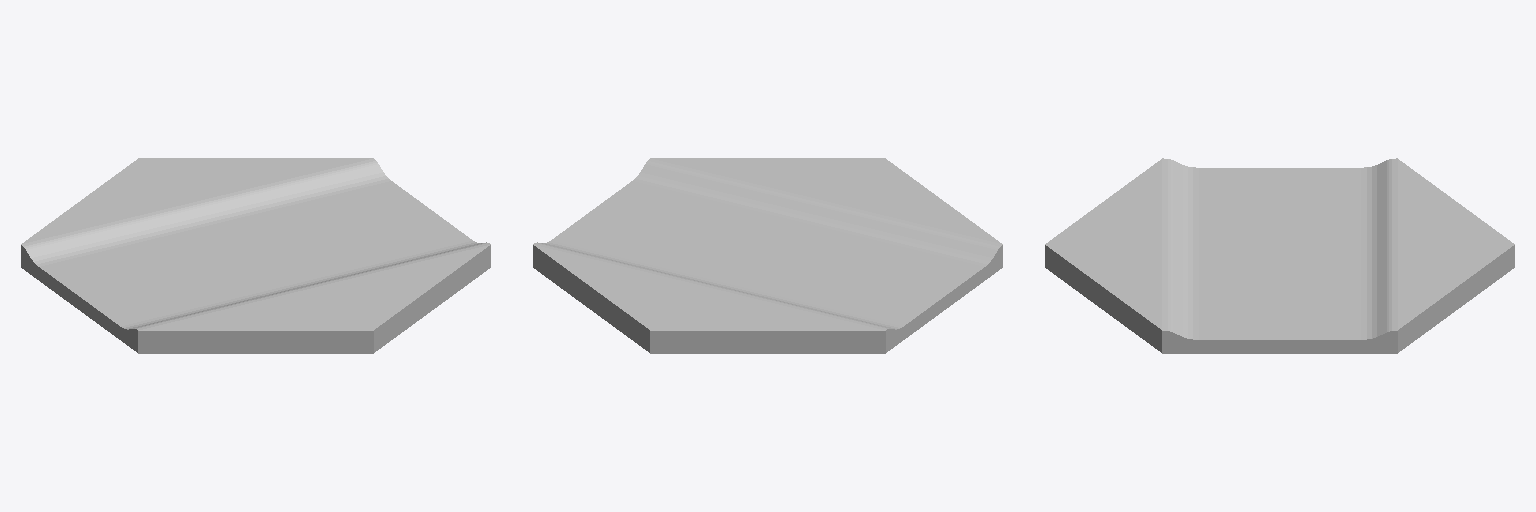
File: Track_Flat_Straight.obj
The picture shows the model from 3 angles: view 1: azimuth 30°, elevation 25°; view 2: azimuth 150°, elevation 25°; view 3: azimuth 270°, elevation 25°; orthographic projection.
Parts seen in each view (by area): view 1: object1; view 2: object1; view 3: object1.
Part boxes in pixels (x1,y1,x2,y2): object1: (21,158,490,353); object1: (533,158,1002,353); object1: (1045,158,1514,353).
Bounding box in the file's own units: 1 × 0.0625 × 1.15.